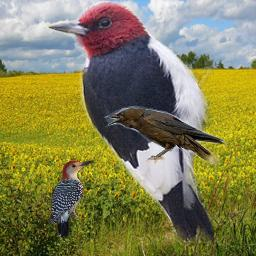Crow: (104, 105, 228, 165)
Woodpecker: (47, 1, 214, 245), (49, 160, 94, 237)
